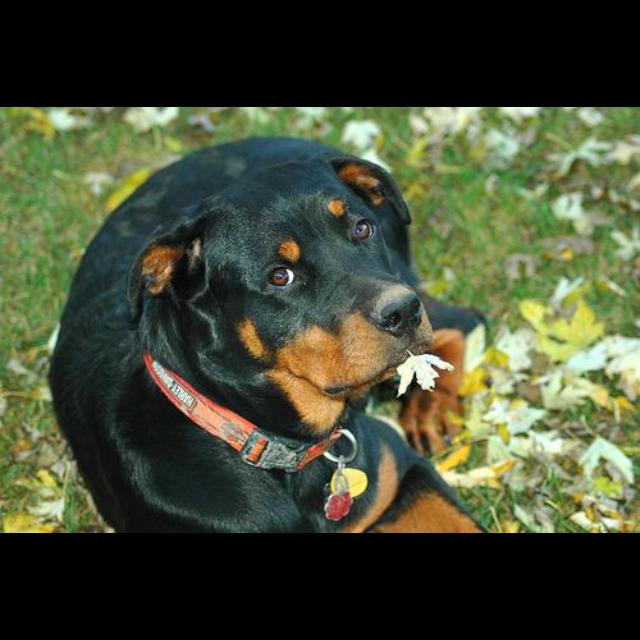rottweiler: (48, 135, 493, 533)
